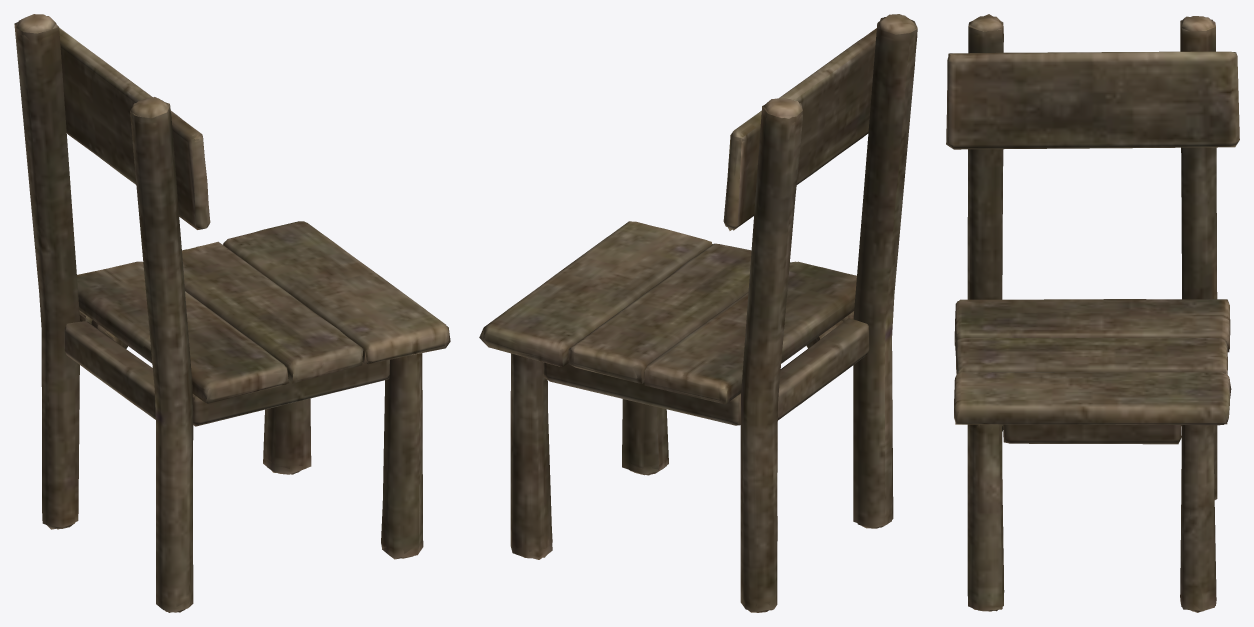
The model's file is SM_Chair_Dining_Wood_6d6af1.glb.
The picture shows the model from 3 angles, left to right: view 1: azimuth 30°, elevation 25°; view 2: azimuth 150°, elevation 25°; view 3: azimuth 270°, elevation 25°; orthographic projection. The views are drawn at different scales.
Bounding box in the file's own units: 0.6354 × 1.02 × 0.5685.
1 material, 1 textured.
